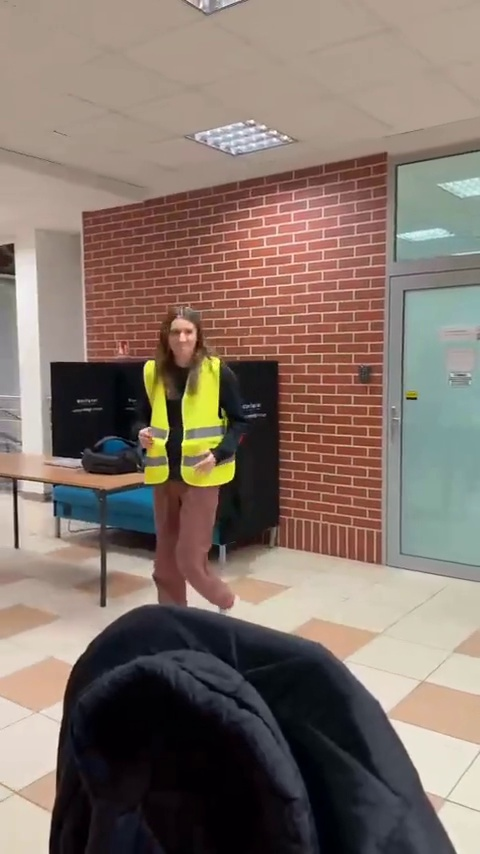vest: (139, 302, 250, 621)
